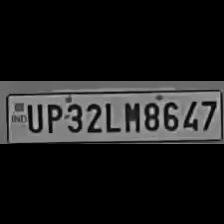2: (83, 98, 103, 132)
3: (64, 100, 82, 132)
4: (180, 96, 198, 130)
6: (160, 97, 178, 131)
7: (199, 96, 217, 130)
8: (141, 98, 159, 132)
L: (103, 98, 120, 132)
M: (120, 98, 140, 132)
P: (44, 99, 61, 133)
U: (24, 100, 42, 132)
